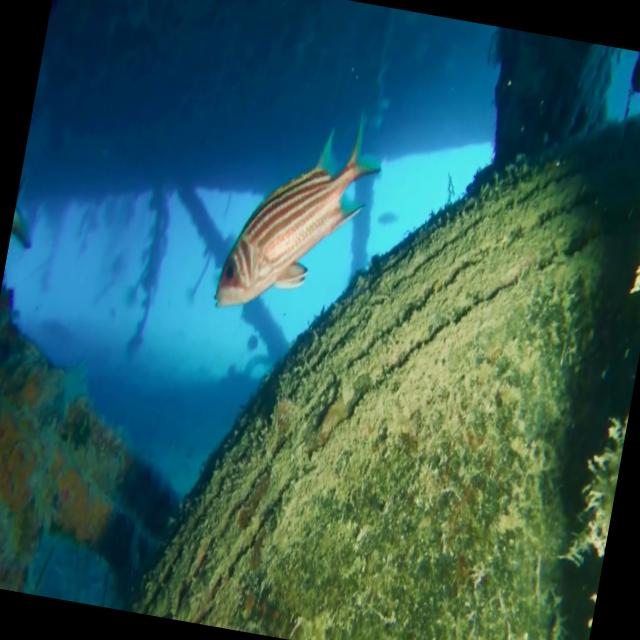Asker Baligi: (210, 90, 392, 333)
